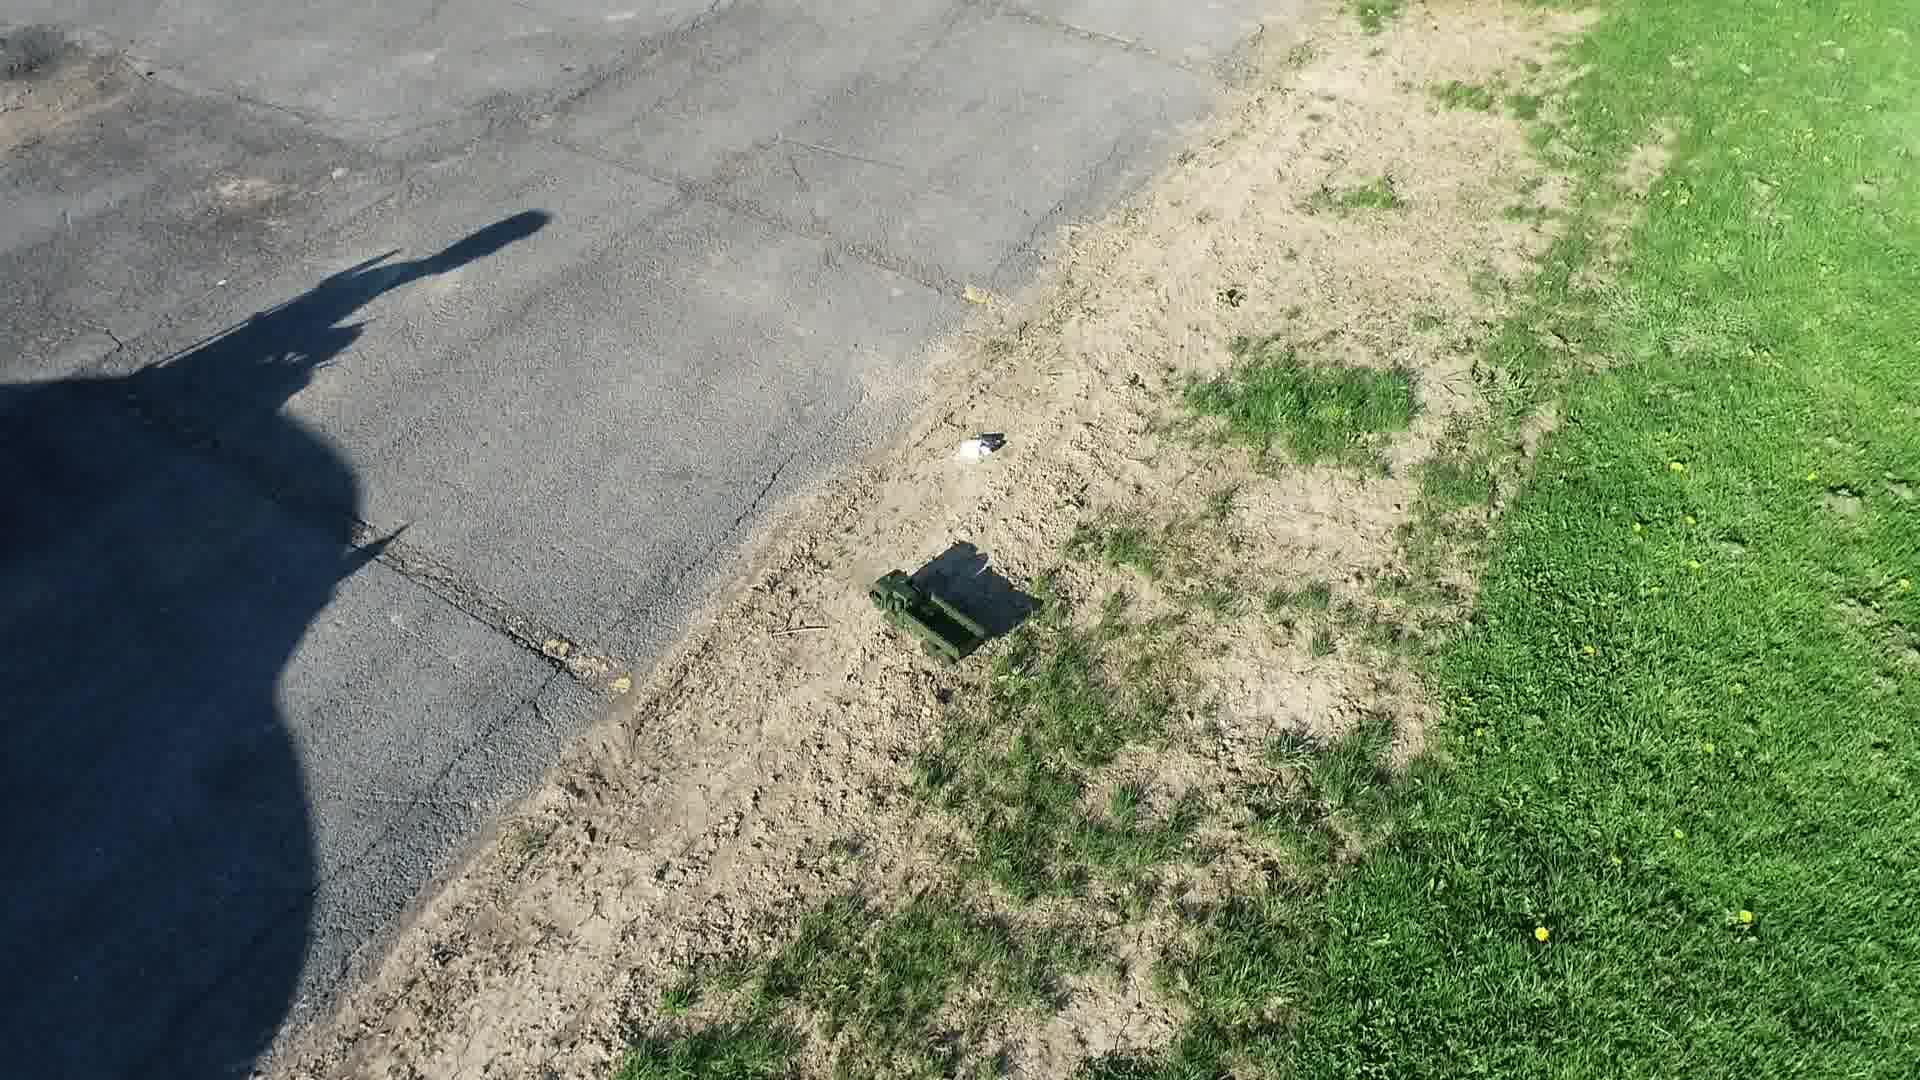transporter9: (866, 564, 992, 674)
